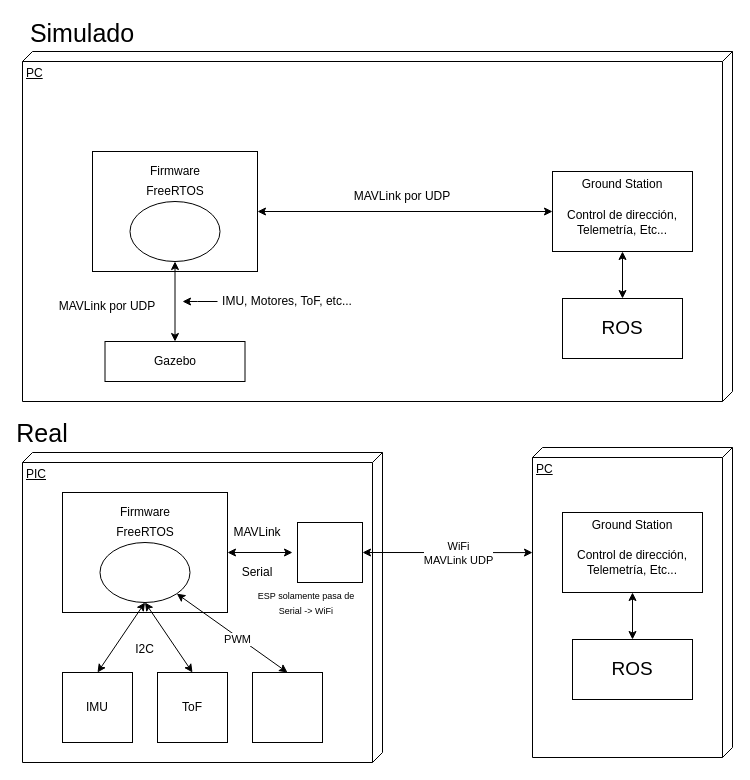
This 750x780 diagram has some shape labels left out. The shapes that lost their labels are listed below. From the top down, each one's box as (x1, y1, x2, y2) in pixels, then its label:
(129, 200, 220, 262): HAL Version PC
(99, 542, 190, 602): HAL Version PIC
(296, 522, 362, 582): ESP
(252, 672, 322, 742): Motores
